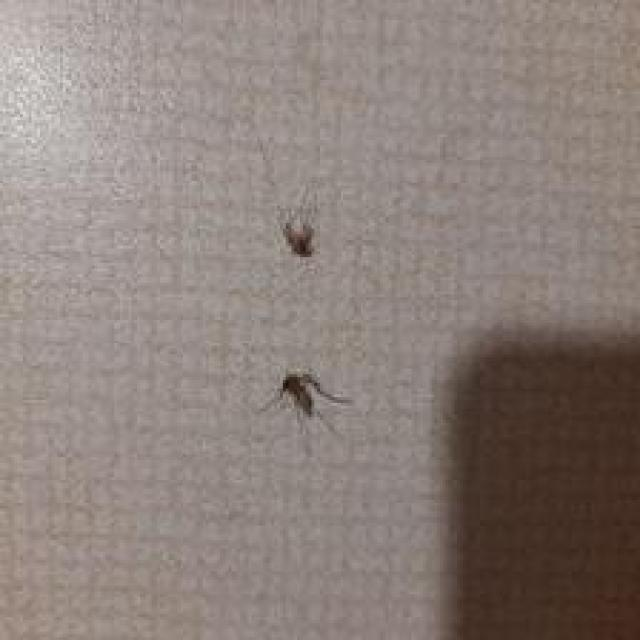Culex: (256, 367, 353, 436)
